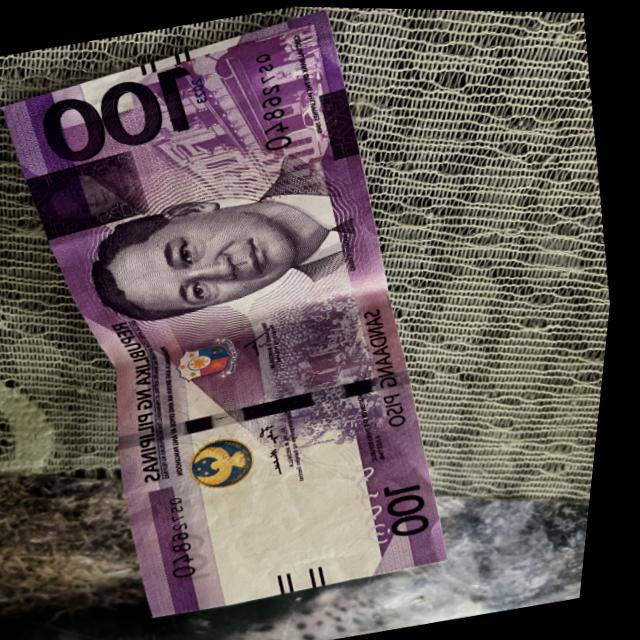concealed_value: (16, 144, 160, 247)
security_thread: (115, 356, 422, 453)
see_through_mark: (344, 450, 415, 558)
serial_number: (239, 43, 306, 161), (159, 487, 219, 586)
value: (24, 57, 208, 172)
